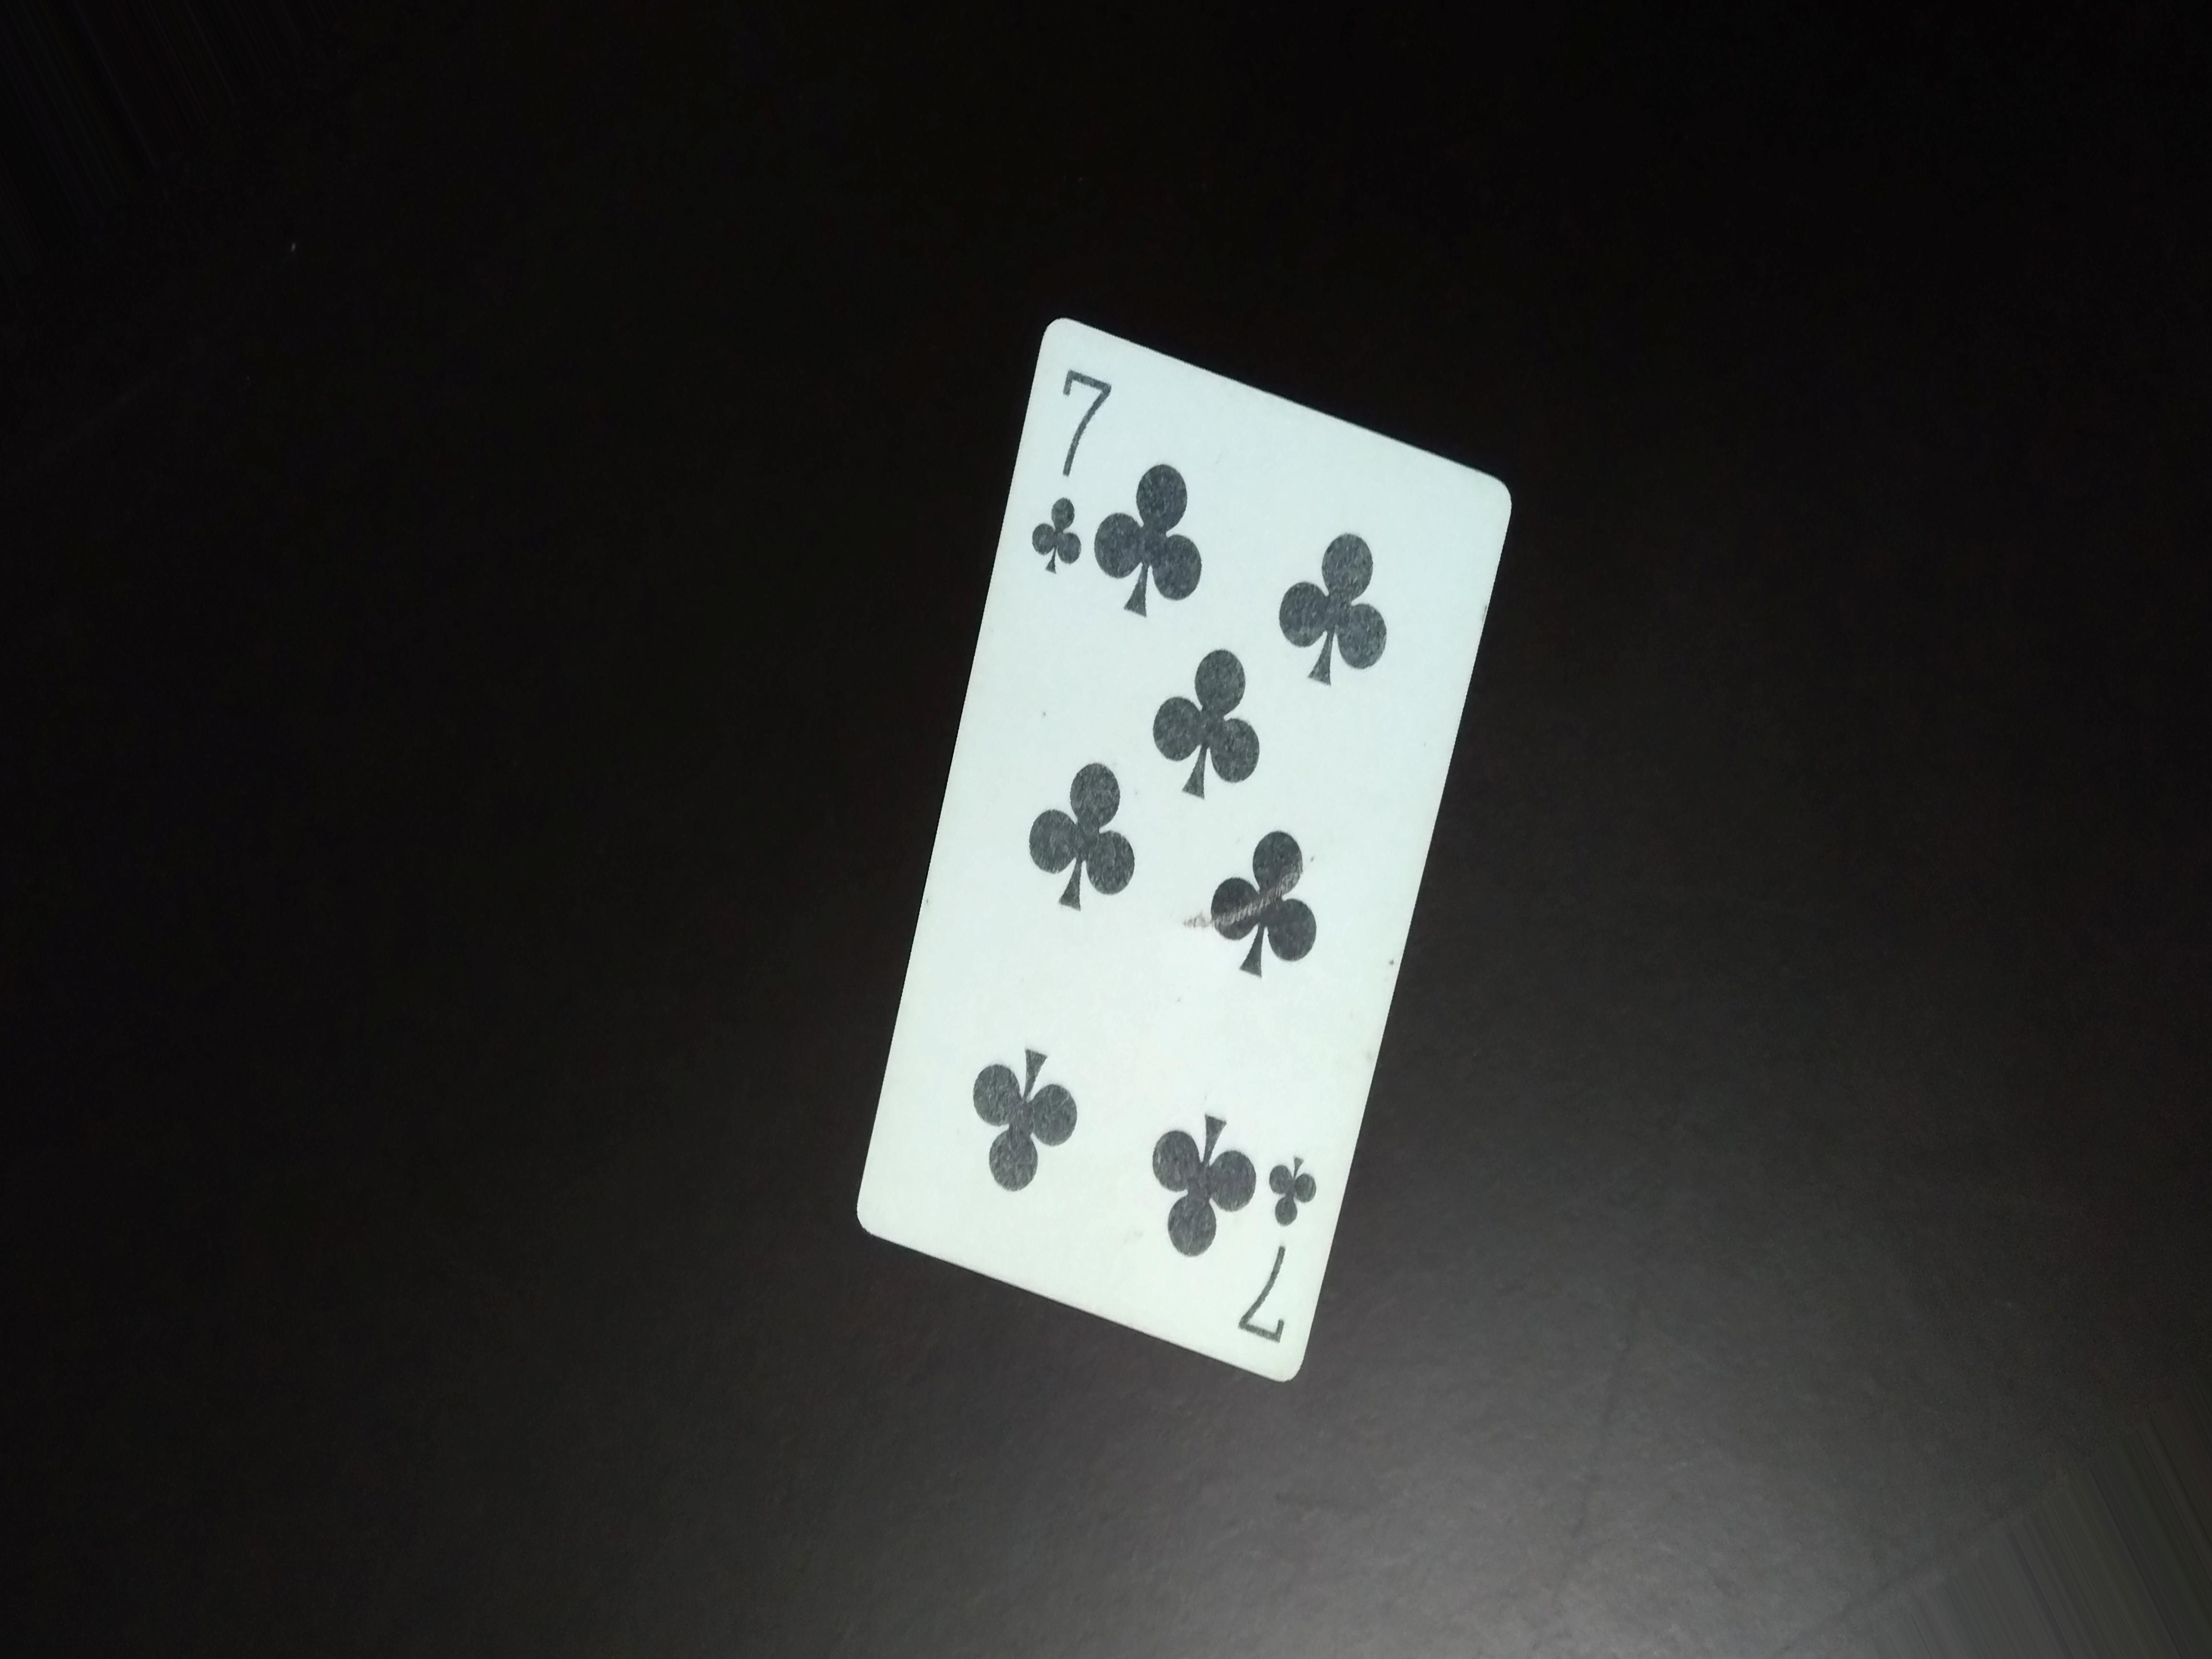7C: (1238, 1140, 1331, 1364)
